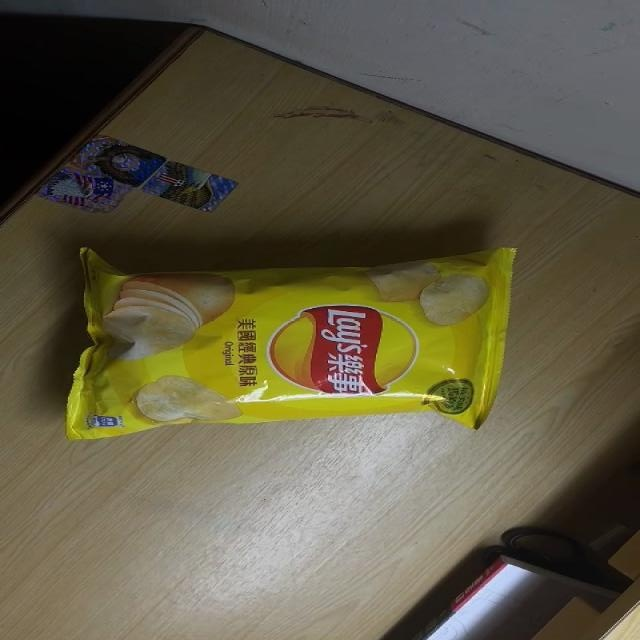Lay-s-original: (71, 246, 520, 443)
